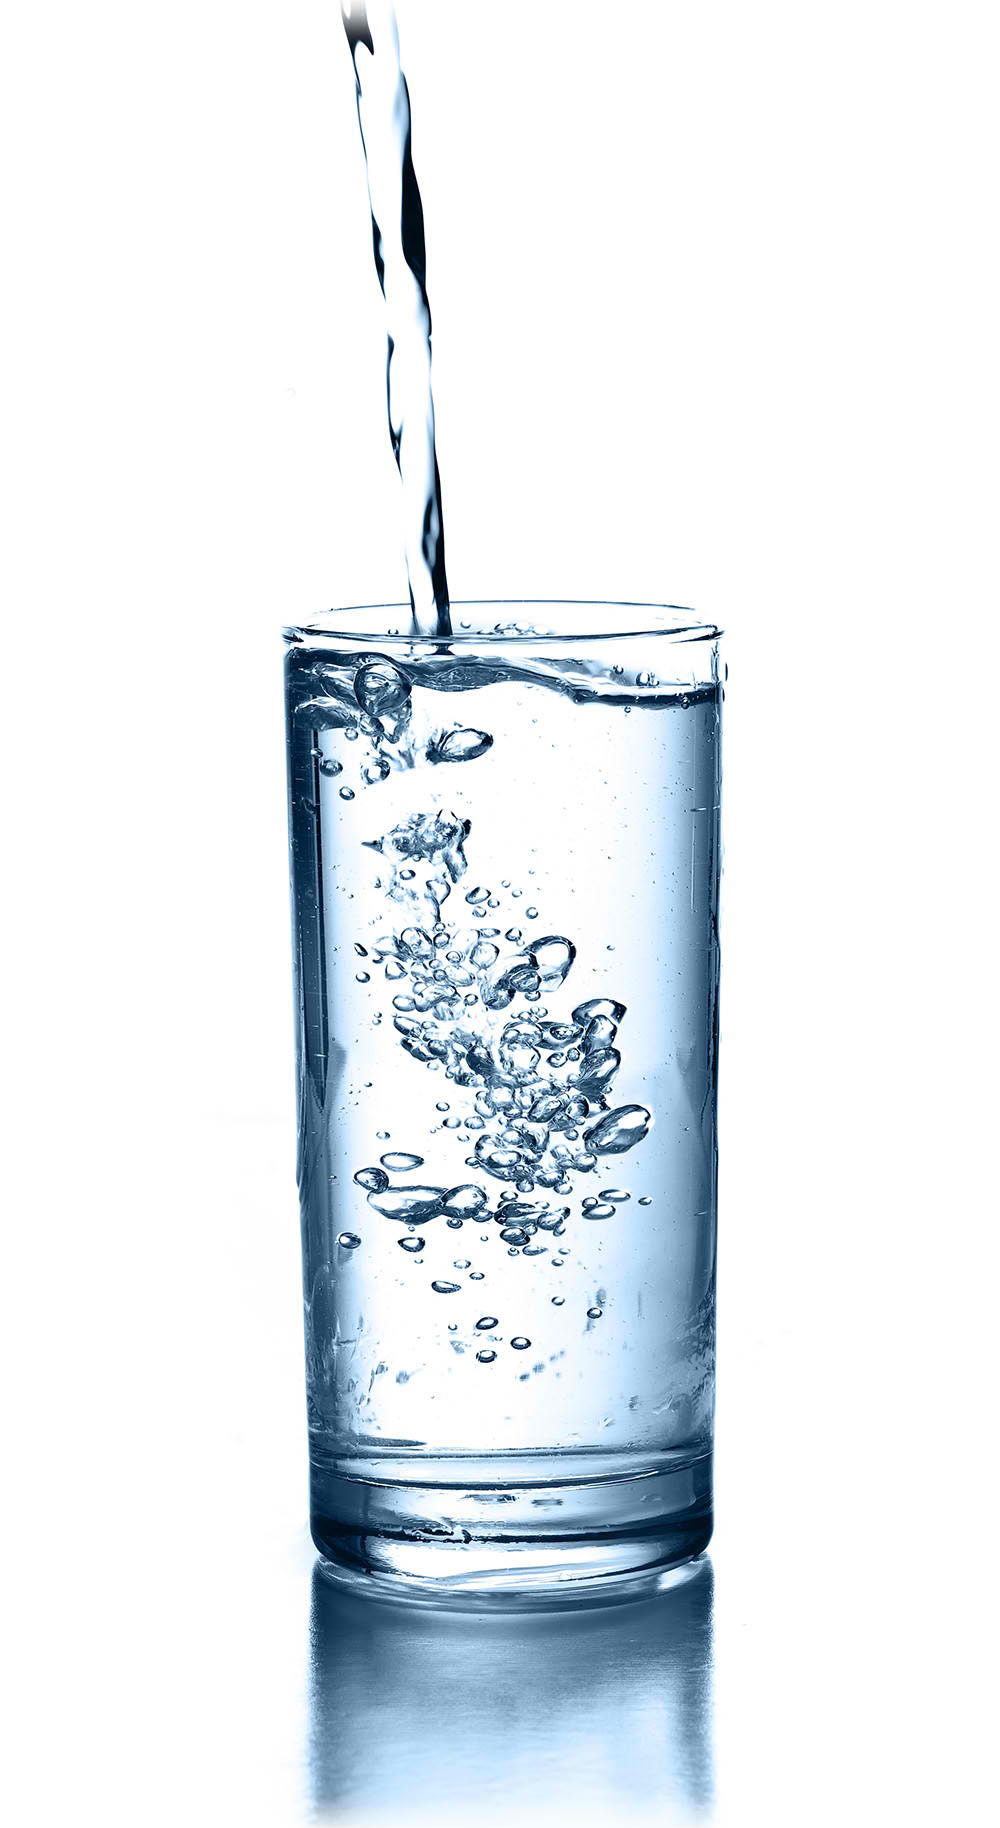glass of water: (308, 628, 720, 1569)
